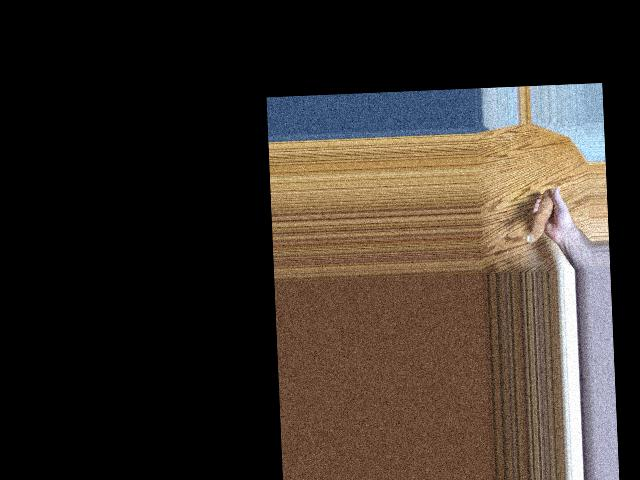sweet_potato: (524, 190, 556, 245)
